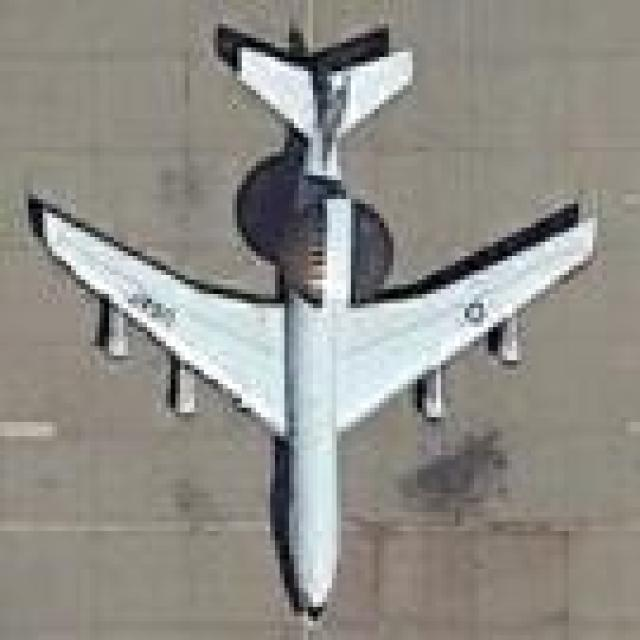E-3_TopDown: (19, 10, 597, 621)
